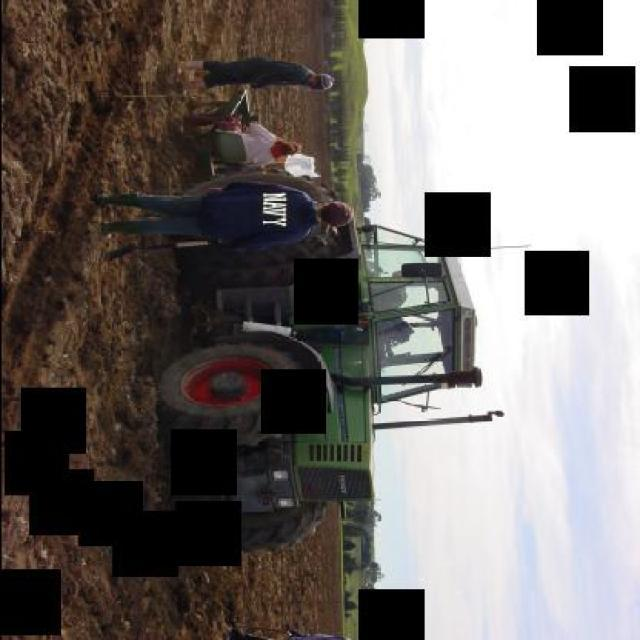Tratores - v5 YOLO V8L 2024-11-13: (96, 92, 478, 566)
